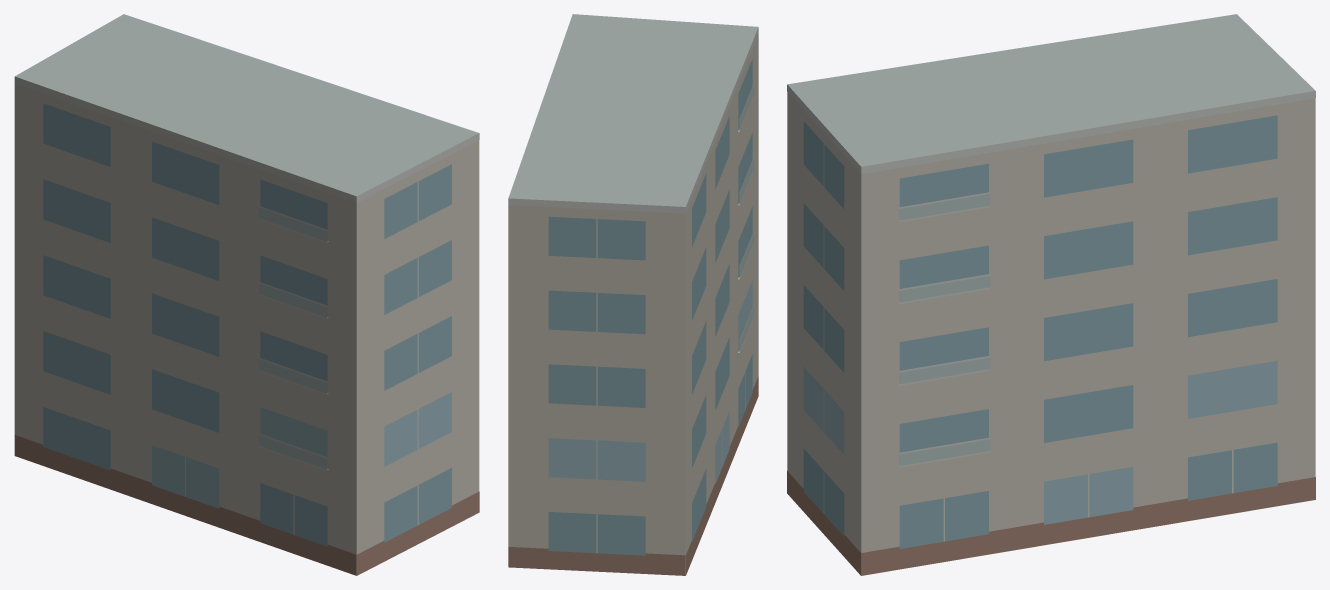
Rendered from survey-upis-32836672.glb.
3 renders of one model, left to right at view 1: azimuth 30°, elevation 25°; view 2: azimuth 150°, elevation 25°; view 3: azimuth 270°, elevation 25°, orthographic. The views are drawn at different scales.
Parts seen in each view (by area): view 1: survey-upis-32836672.tmp; view 2: survey-upis-32836672.tmp; view 3: survey-upis-32836672.tmp.
Part boxes in pixels (box(x1,y1,x2,y2)): survey-upis-32836672.tmp: box(14, 14, 479, 575); survey-upis-32836672.tmp: box(508, 14, 758, 575); survey-upis-32836672.tmp: box(787, 14, 1315, 575).
Bounding box in the file's own units: 10.87 × 13.55 × 15.88.
